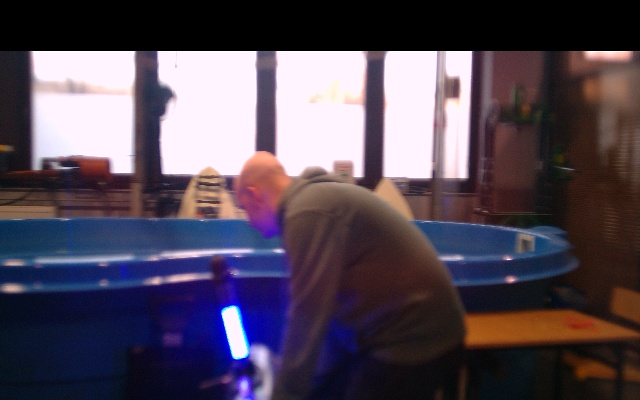blue: (220, 304, 250, 361)
